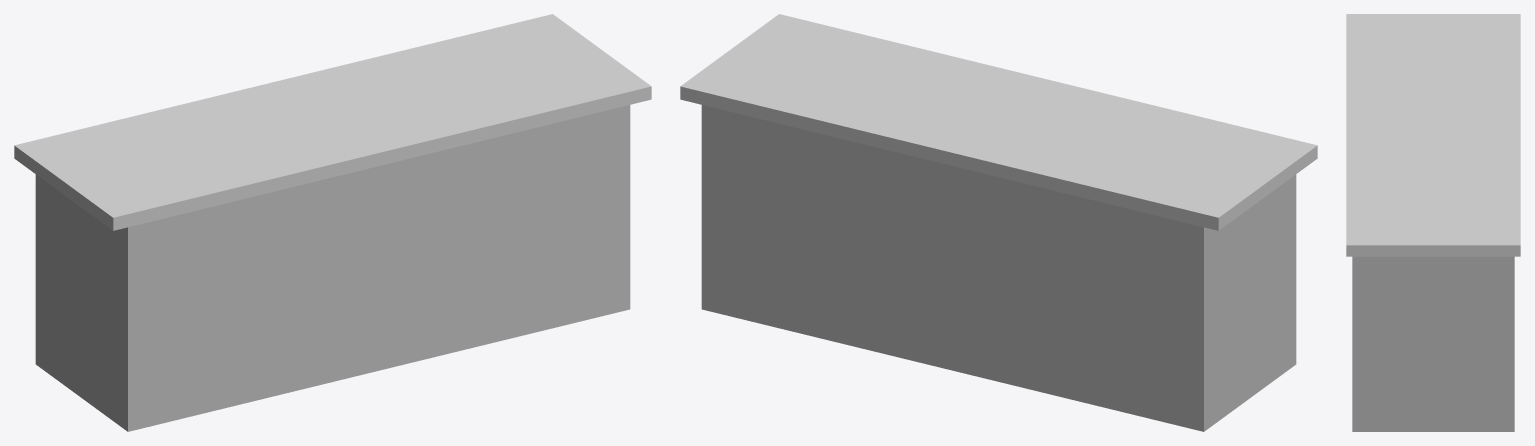
File: prop_office_table.fbx
The picture shows the model from 3 angles, left to right: view 1: azimuth 30°, elevation 25°; view 2: azimuth 150°, elevation 25°; view 3: azimuth 270°, elevation 25°; orthographic projection. The views are drawn at different scales.
Visible parts, largest first — view 1: polySurface3; view 2: polySurface3; view 3: polySurface3.
Part boxes in pixels (x1,y1,x2,y2): polySurface3: (14,14,651,431); polySurface3: (680,14,1317,431); polySurface3: (1346,14,1520,431).
Bounding box in the file's own units: 6.04 × 2.37 × 1.92.
